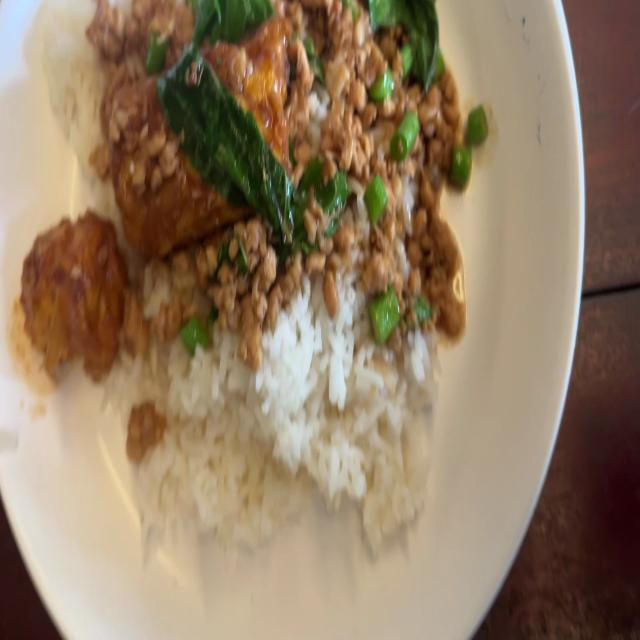01rice: (179, 337, 439, 538), (104, 357, 195, 540)
fried_tofo: (130, 28, 289, 241), (33, 222, 115, 362)
minced_pork: (294, 0, 480, 340), (147, 230, 299, 344), (91, 0, 198, 65), (128, 407, 164, 455)
stir_fried_basil: (17, 0, 491, 554)
